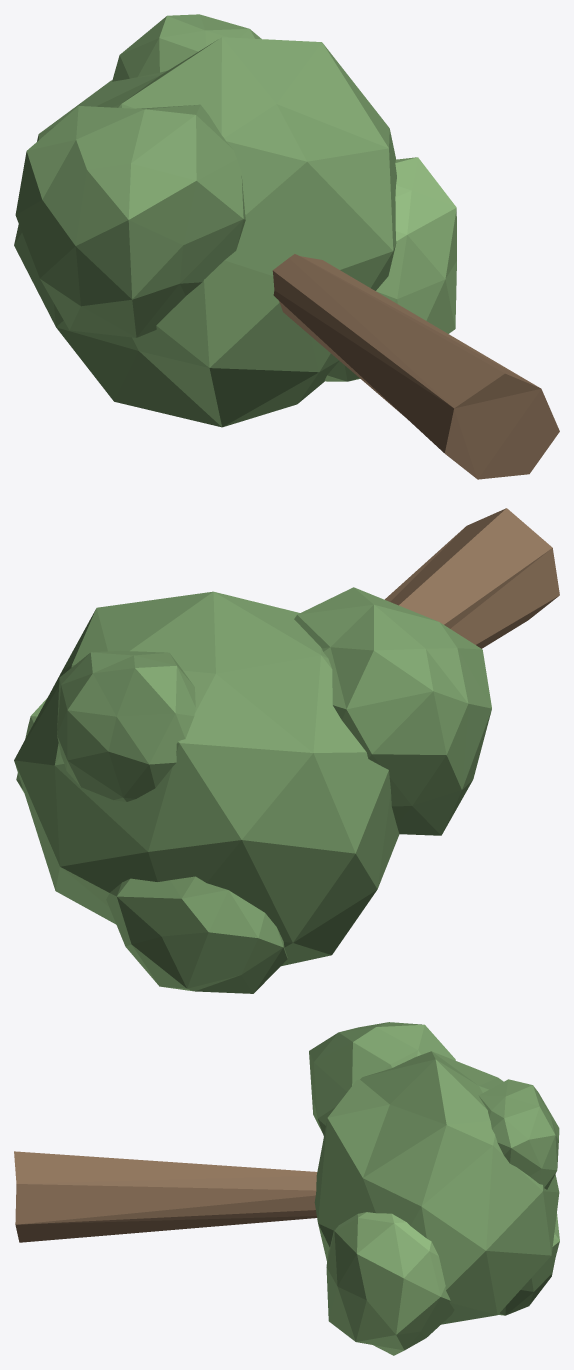
The model's file is HardwoodTree.fbx.
3 views of the same model, one above another, from view 1: azimuth 30°, elevation 25°; view 2: azimuth 150°, elevation 25°; view 3: azimuth 270°, elevation 25° (orthographic). The views are drawn at different scales.
Visible parts, largest first — view 1: fam_leaf_dark, fam_wood_dark, fam_leaf; view 2: fam_leaf_dark, fam_wood_dark; view 3: fam_leaf_dark, fam_wood_dark, fam_leaf.
Part boxes in pixels (<box>): fam_leaf_dark: <box>14,14,396,427</box>; fam_wood_dark: <box>272,254,559,479</box>; fam_leaf: <box>324,157,456,381</box>; fam_leaf_dark: <box>14,587,491,993</box>; fam_wood_dark: <box>384,508,559,648</box>; fam_leaf_dark: <box>309,1022,559,1324</box>; fam_wood_dark: <box>14,1151,317,1242</box>; fam_leaf: <box>326,1212,454,1355</box>.
Size of the model in its own units: 9.96 by 8.2 by 15.13.
